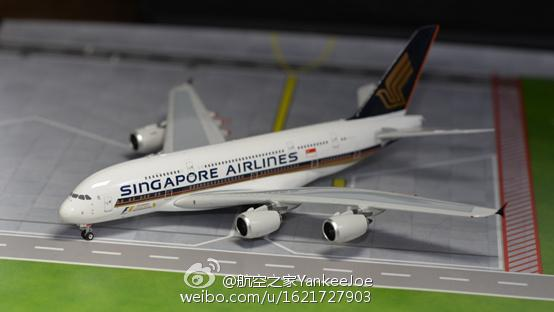airplane: (54, 26, 460, 246)
